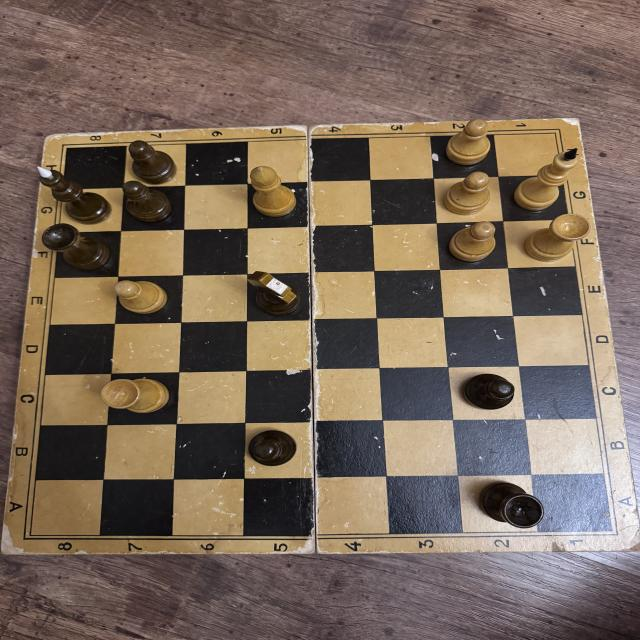black-king: (37, 165, 111, 224)
black-knight: (246, 270, 302, 318)
black-pawn: (125, 140, 180, 184), (120, 180, 173, 222), (461, 370, 515, 411), (249, 429, 296, 466)
black-rook: (36, 222, 113, 273), (473, 479, 546, 529)
white-bishop: (246, 163, 298, 220)
white-king: (514, 147, 578, 212)
white-pawn: (443, 118, 492, 167), (440, 172, 495, 215), (447, 221, 498, 264), (112, 279, 168, 314)
white-rook: (524, 212, 588, 266), (101, 377, 171, 413)
